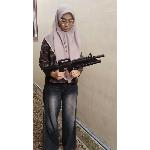Senapan: (39, 53, 114, 78)
